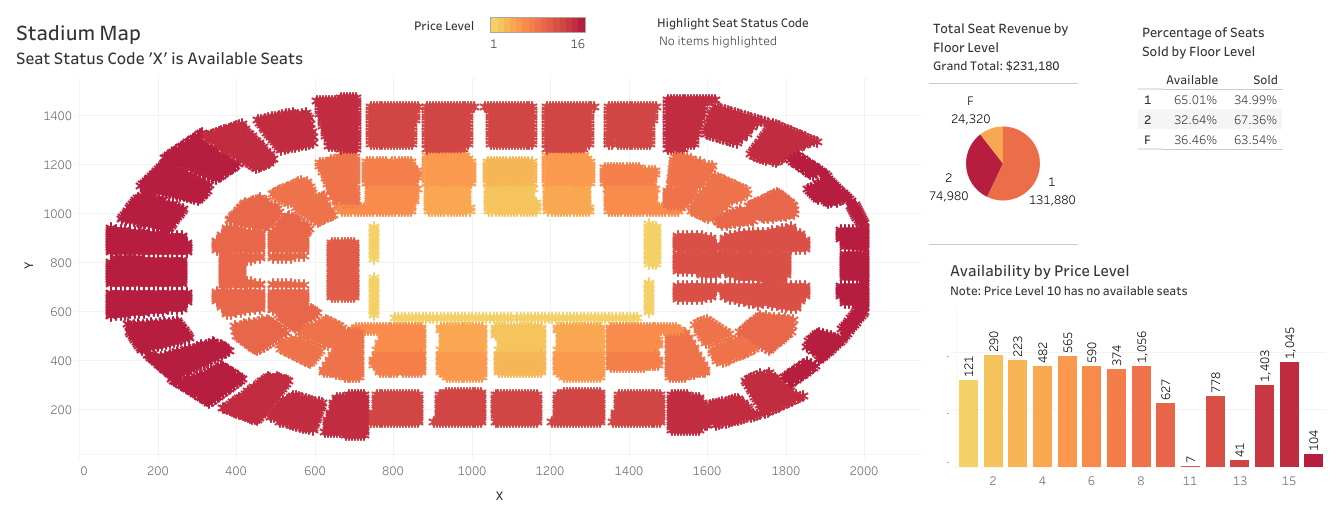

This screenshot's page, from the dashboard's own definition file:
{"tool":"tableau","page":{"name":"Dashboard 1","canvas":[1000,1000],"units":"permille","ordinal":0},"visuals":[{"type":"worksheet","title":"Sheet 1","mark":"Automatic","rows":["Y"],"cols":["X"],"box":[7.6,11,682.9,977.9]},{"type":"worksheet","title":"Sheet 4","mark":"Pie","rows":["Avail.Seat.Code"],"box":[690.5,11,302,977.9]},{"type":"highlighter","title":"Sheet 1","param":"[federated.1w8xcc80nwbuot0zk5dd30sqg4m7].[none:Seat.Status.Code:nk]","box":[490.9,23.7,156.4,79.4]},{"type":"legend","title":"Sheet 1","param":"[federated.1w8xcc80nwbuot0zk5dd30sqg4m7].[none:Price Level:qk]","box":[309.3,25.3,131.2,71]},{"type":"worksheet","title":"Sheet 5","mark":"Automatic","rows":["Level (DDC Seat Coordinates.csv)"],"cols":["Avail.Seat.Code"],"box":[849.7,30.4,142.5,266.9]},{"type":"worksheet","title":"Sheet 2","mark":"Automatic","cols":["Price.Level.Code"],"box":[706.3,483.1,284.1,452.7]}]}

Visuals, with their boxes on the dashboard's canvas, which has no fixed pixel size, in thousandths of its width and height (x1, y1, x2, y2). These are canvas units, not pixel positions in the 1338x522 screenshot, which may show the page scaled, cropped or inside an application window:
"Sheet 1" worksheet: [8, 11, 690, 989]
"Sheet 4" worksheet (Pie marks): [690, 11, 992, 989]
"Sheet 1" highlighter: [491, 24, 647, 103]
"Sheet 1" legend: [309, 25, 440, 96]
"Sheet 5" worksheet: [850, 30, 992, 297]
"Sheet 2" worksheet: [706, 483, 990, 936]
